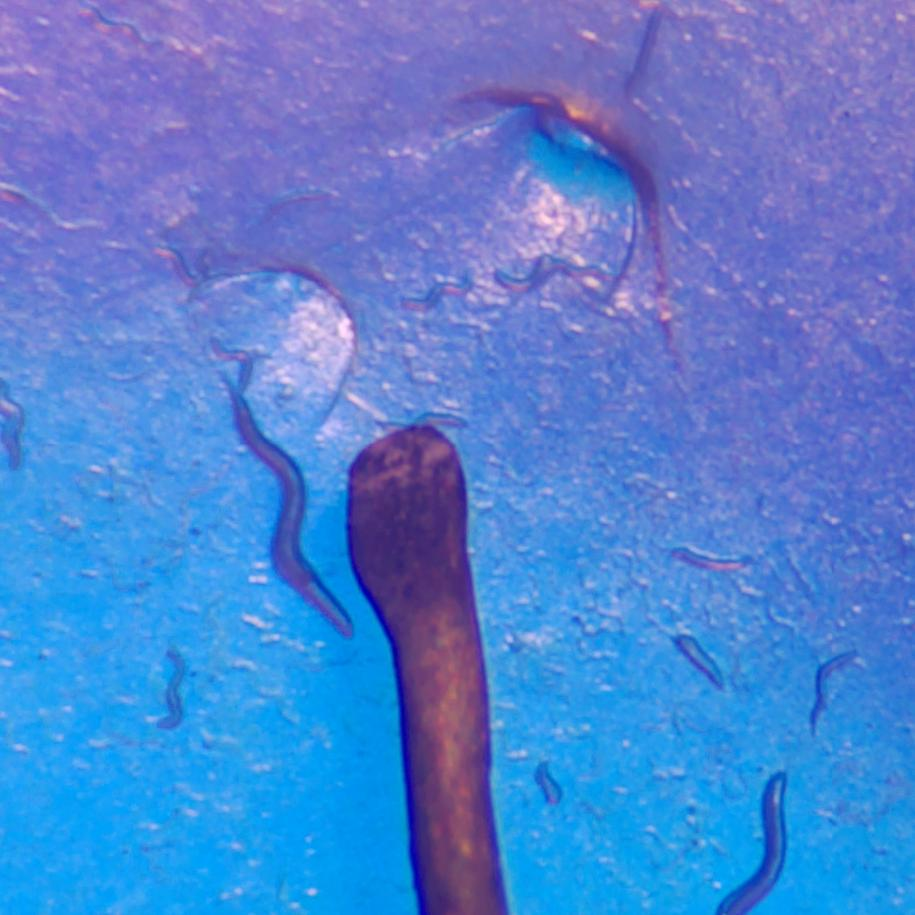pick: (348, 428, 505, 914)
worm: (214, 339, 353, 637), (716, 771, 786, 914), (810, 651, 857, 735)
